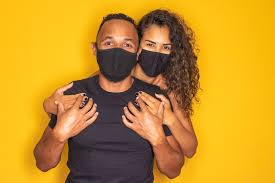with-mask: (90, 9, 141, 87), (140, 10, 182, 89)
